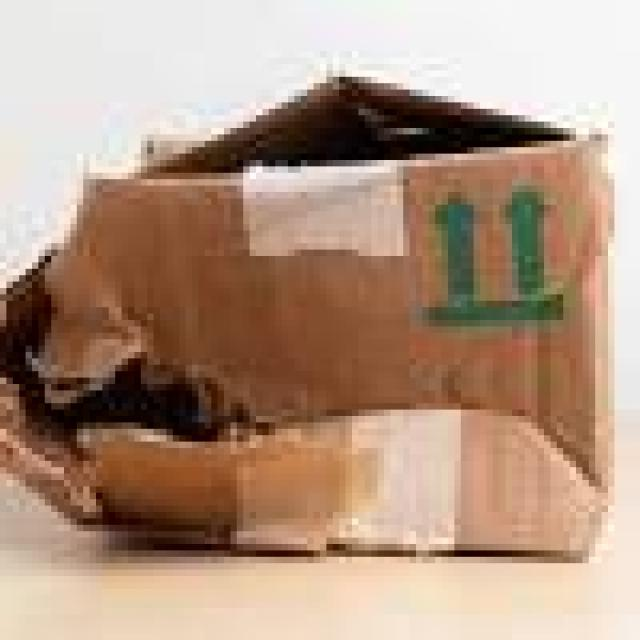leakage: (13, 275, 260, 463)
tear: (141, 83, 568, 172)
